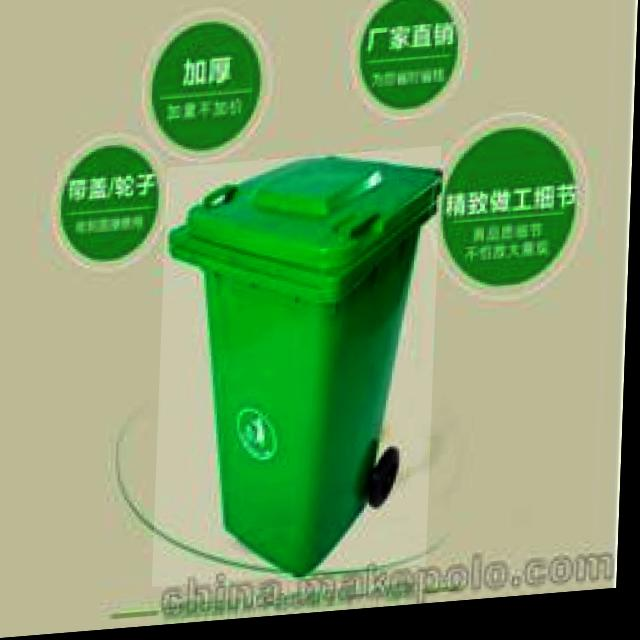garbage_bin: (157, 153, 443, 590)
